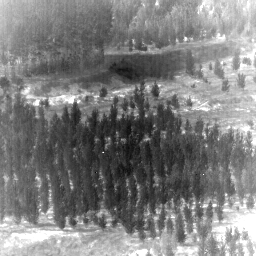aircraft: (102, 152, 104, 154)
